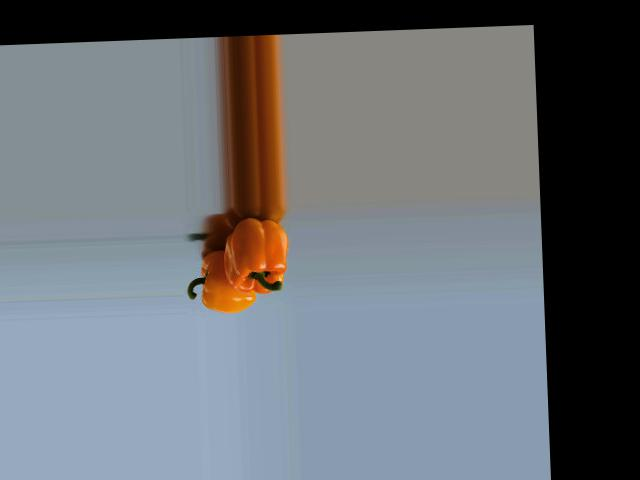bell_pepper: (186, 237, 259, 314)
